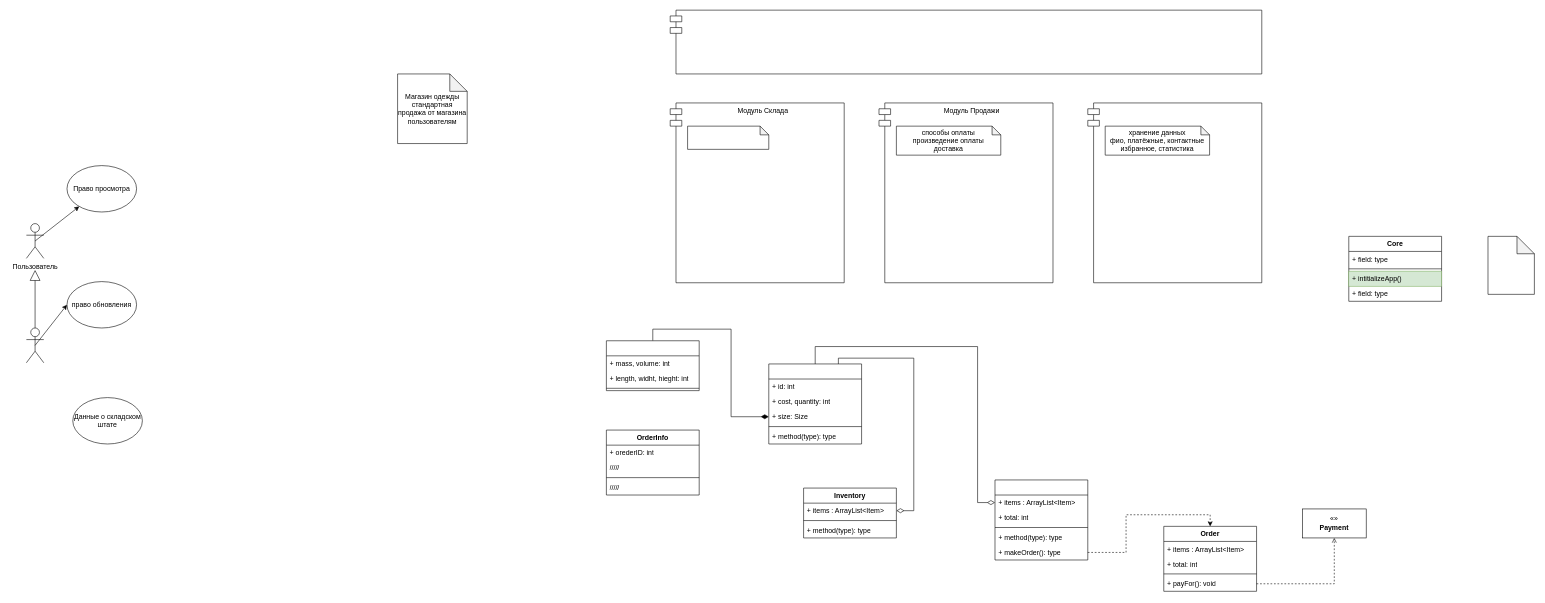
Image size: 1545x603. Some labels were removed from this diagram. Each missing label, with the box of its shape:
Basket: (994, 479, 1088, 560)
Item: (768, 363, 862, 444)
Size: (606, 340, 699, 391)
Администратор: (26, 327, 44, 363)
инвентаризация описание товаров: (687, 126, 769, 149)
Модуль пользователей: (1087, 102, 1262, 283)
Модуль Пользовательского интерфейса: (670, 10, 1262, 74)
